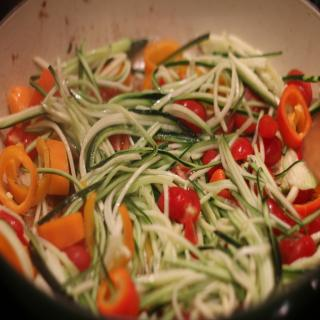tomato: (282, 85, 306, 146)
